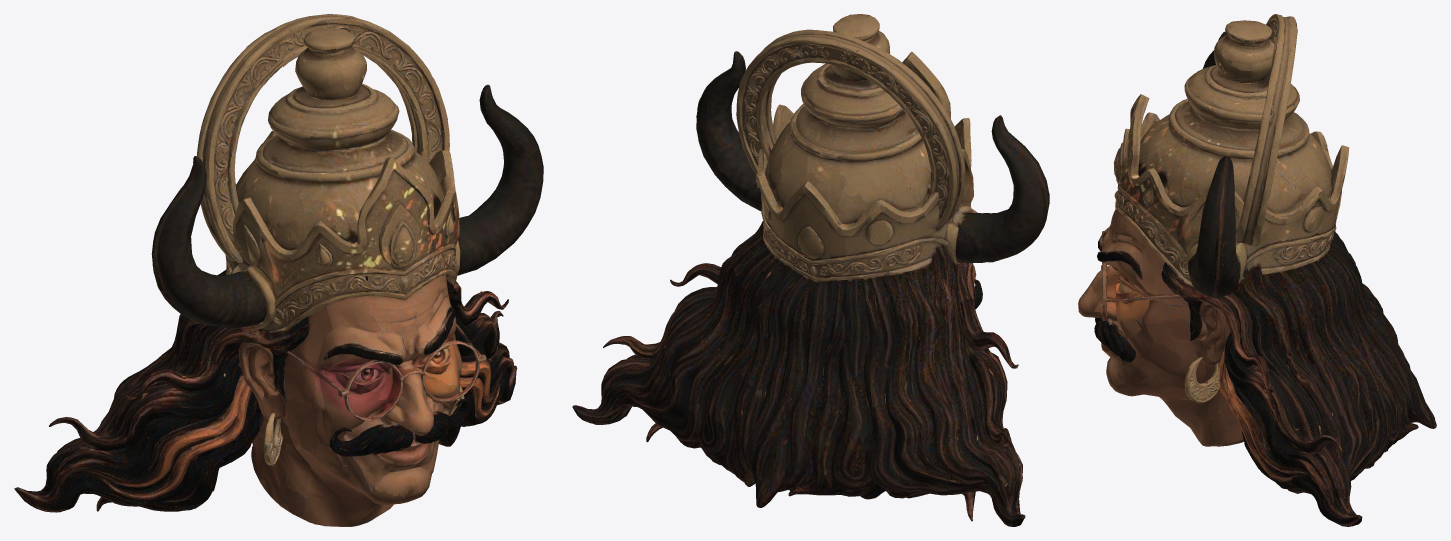
Rendered from head-showman-web.glb.
The picture shows the model from 3 angles, left to right: view 1: azimuth 30°, elevation 25°; view 2: azimuth 150°, elevation 25°; view 3: azimuth 270°, elevation 25°; orthographic projection. The views are drawn at different scales.
Visible parts, largest first — view 1: mesh_node; view 2: mesh_node; view 3: mesh_node.
Part boxes in pixels (bbox=[...]): mesh_node: bbox=[14, 14, 543, 526]; mesh_node: bbox=[572, 14, 1049, 526]; mesh_node: bbox=[1078, 14, 1436, 526].
Bounding box in the file's own units: 1.9 × 1.71 × 1.35.
1 material, 1 textured.
